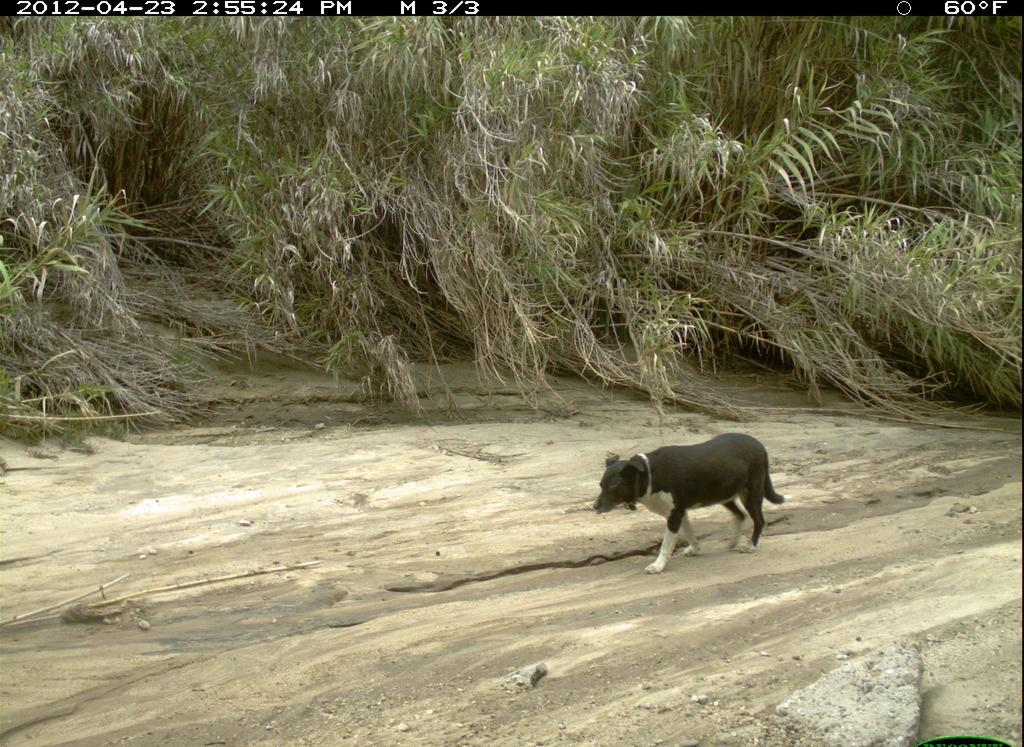dog: (585, 425, 797, 582)
